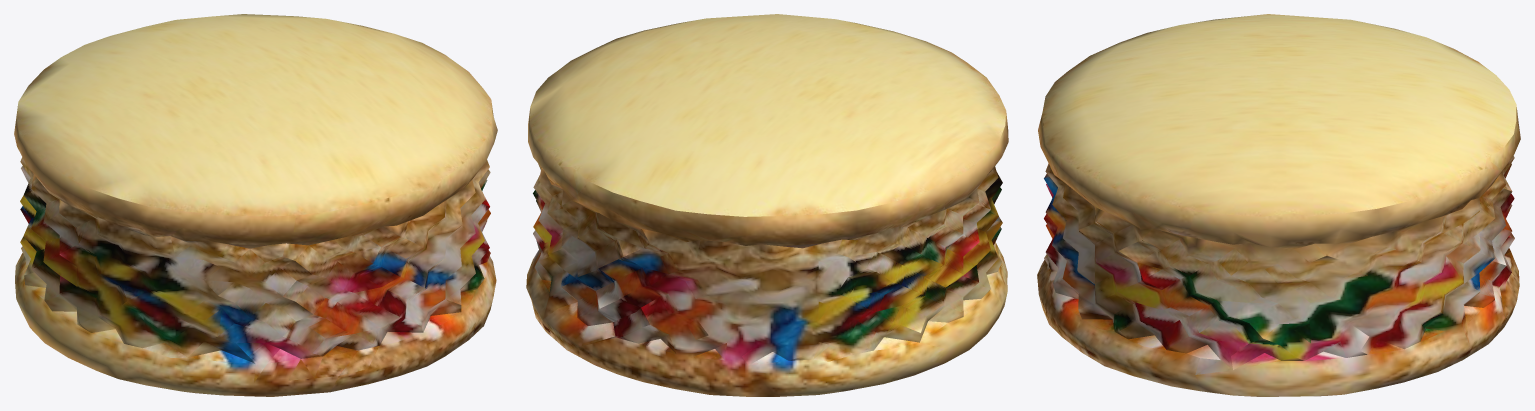
File: prop_birthday_cake_macaron.glb
The picture shows the model from 3 angles, left to right: view 1: azimuth 30°, elevation 25°; view 2: azimuth 150°, elevation 25°; view 3: azimuth 270°, elevation 25°; orthographic projection.
Visible parts, largest first — view 1: Macaron; view 2: Macaron; view 3: Macaron.
Part boxes in pixels (x1,y1,x2,y2): Macaron: (14, 14, 497, 396); Macaron: (526, 14, 1008, 396); Macaron: (1037, 14, 1520, 396).
Bounding box in the file's own units: 0.0755 × 0.044 × 0.0757.
Materials: 1 (1 with a texture image).
